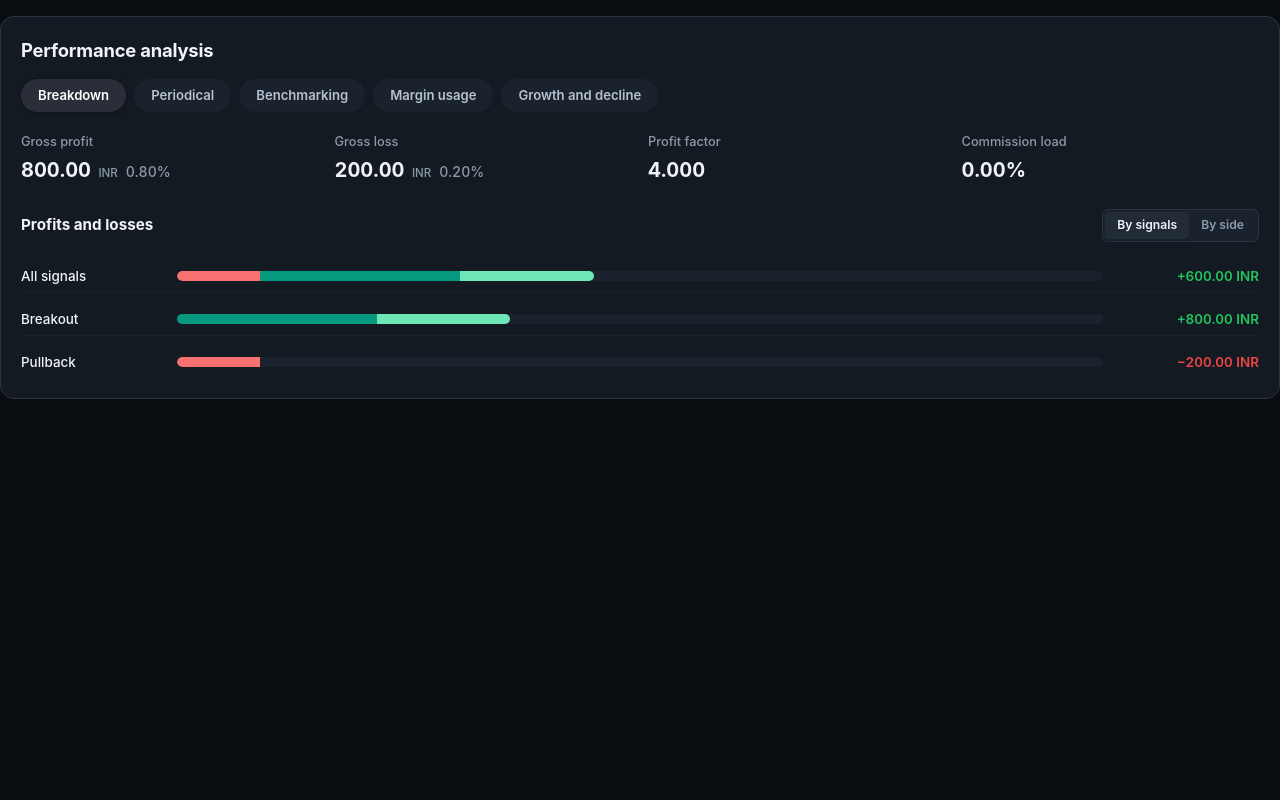
Test: PerformanceAnalysis Component › switches to Periodical tab and supports period selector
Step 1. Click the tab "Periodical" → x=183, y=95, box x1=134 y1=79 x2=231 y2=112
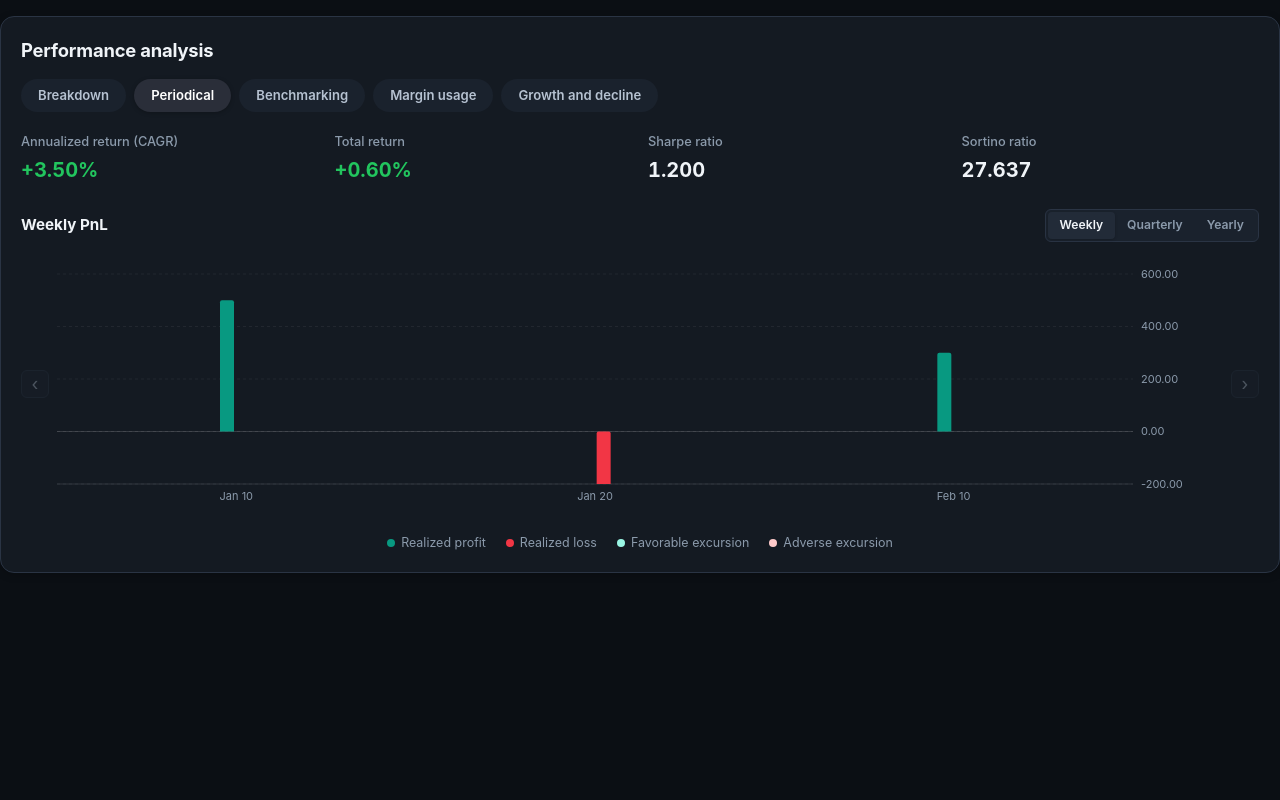
Result: the element with test id "performance-periodical-tab" is shown at x1=21 y1=132 x2=1259 y2=552
Result: the text "Annualized return (CAGR)" is shown at x1=21 y1=134 x2=178 y2=149
Result: the text "Total return" is shown at x1=334 y1=134 x2=405 y2=149
// Switch to Quarterly
Step 2. Click the button "Quarterly" → x=1155, y=226, box x1=1115 y1=212 x2=1195 y2=239
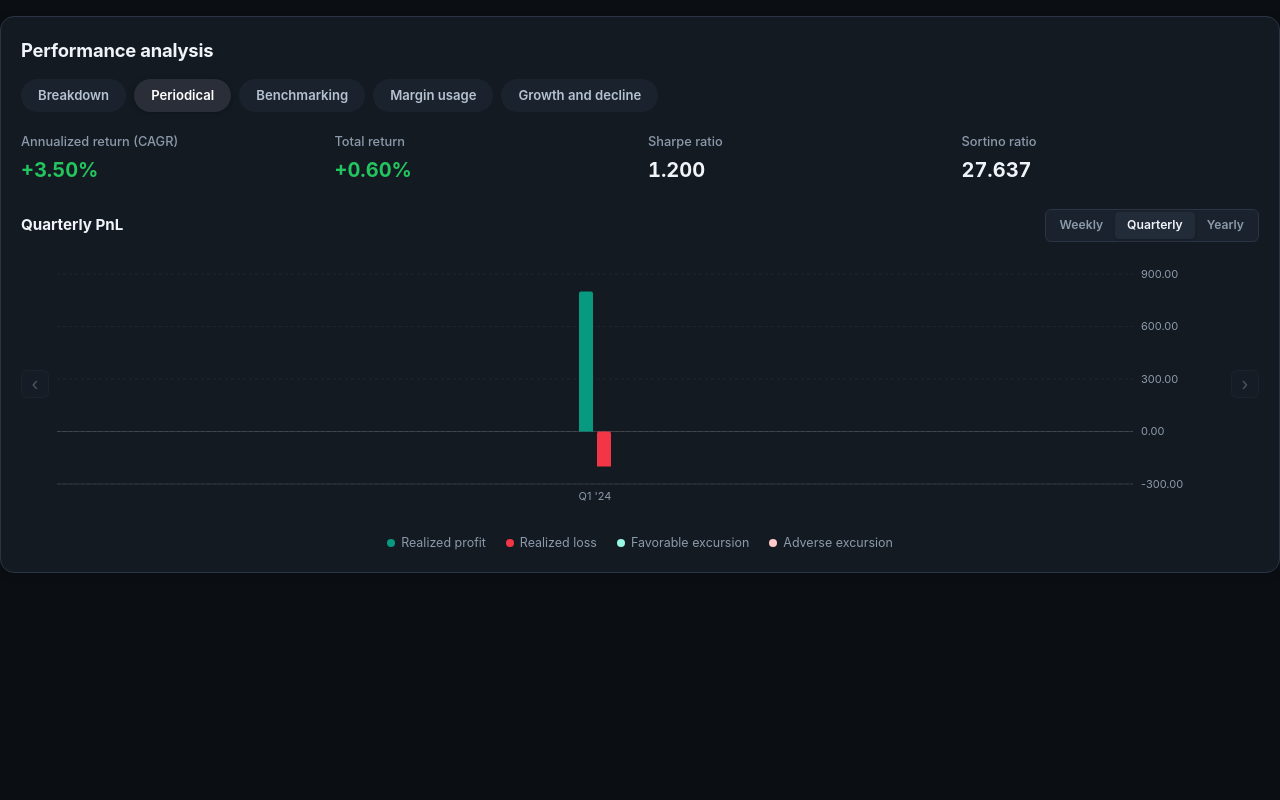
Result: the heading "Quarterly PnL" is shown at x1=21 y1=214 x2=123 y2=237
// Switch to Yearly
Step 3. Click the button "Yearly" → x=1225, y=226, box x1=1195 y1=212 x2=1256 y2=239
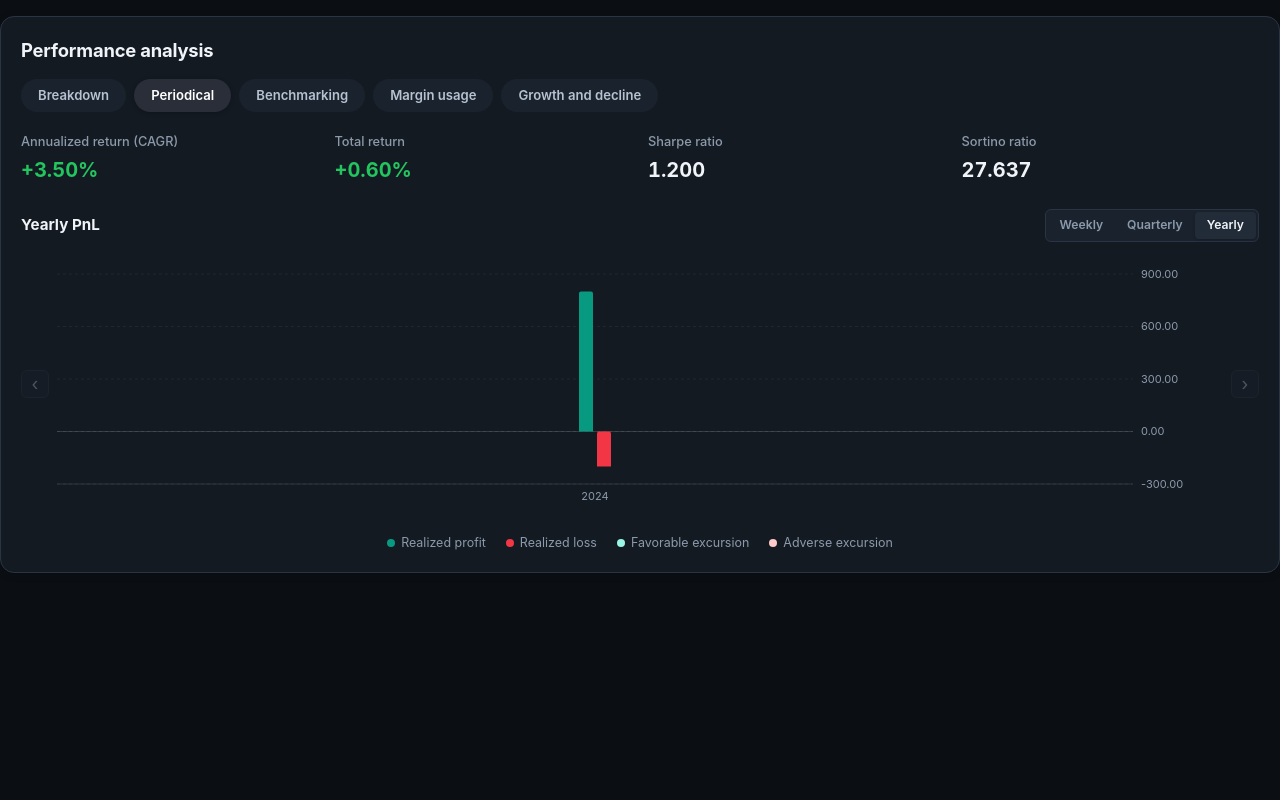
Result: the heading "Yearly PnL" is shown at x1=21 y1=214 x2=100 y2=237
